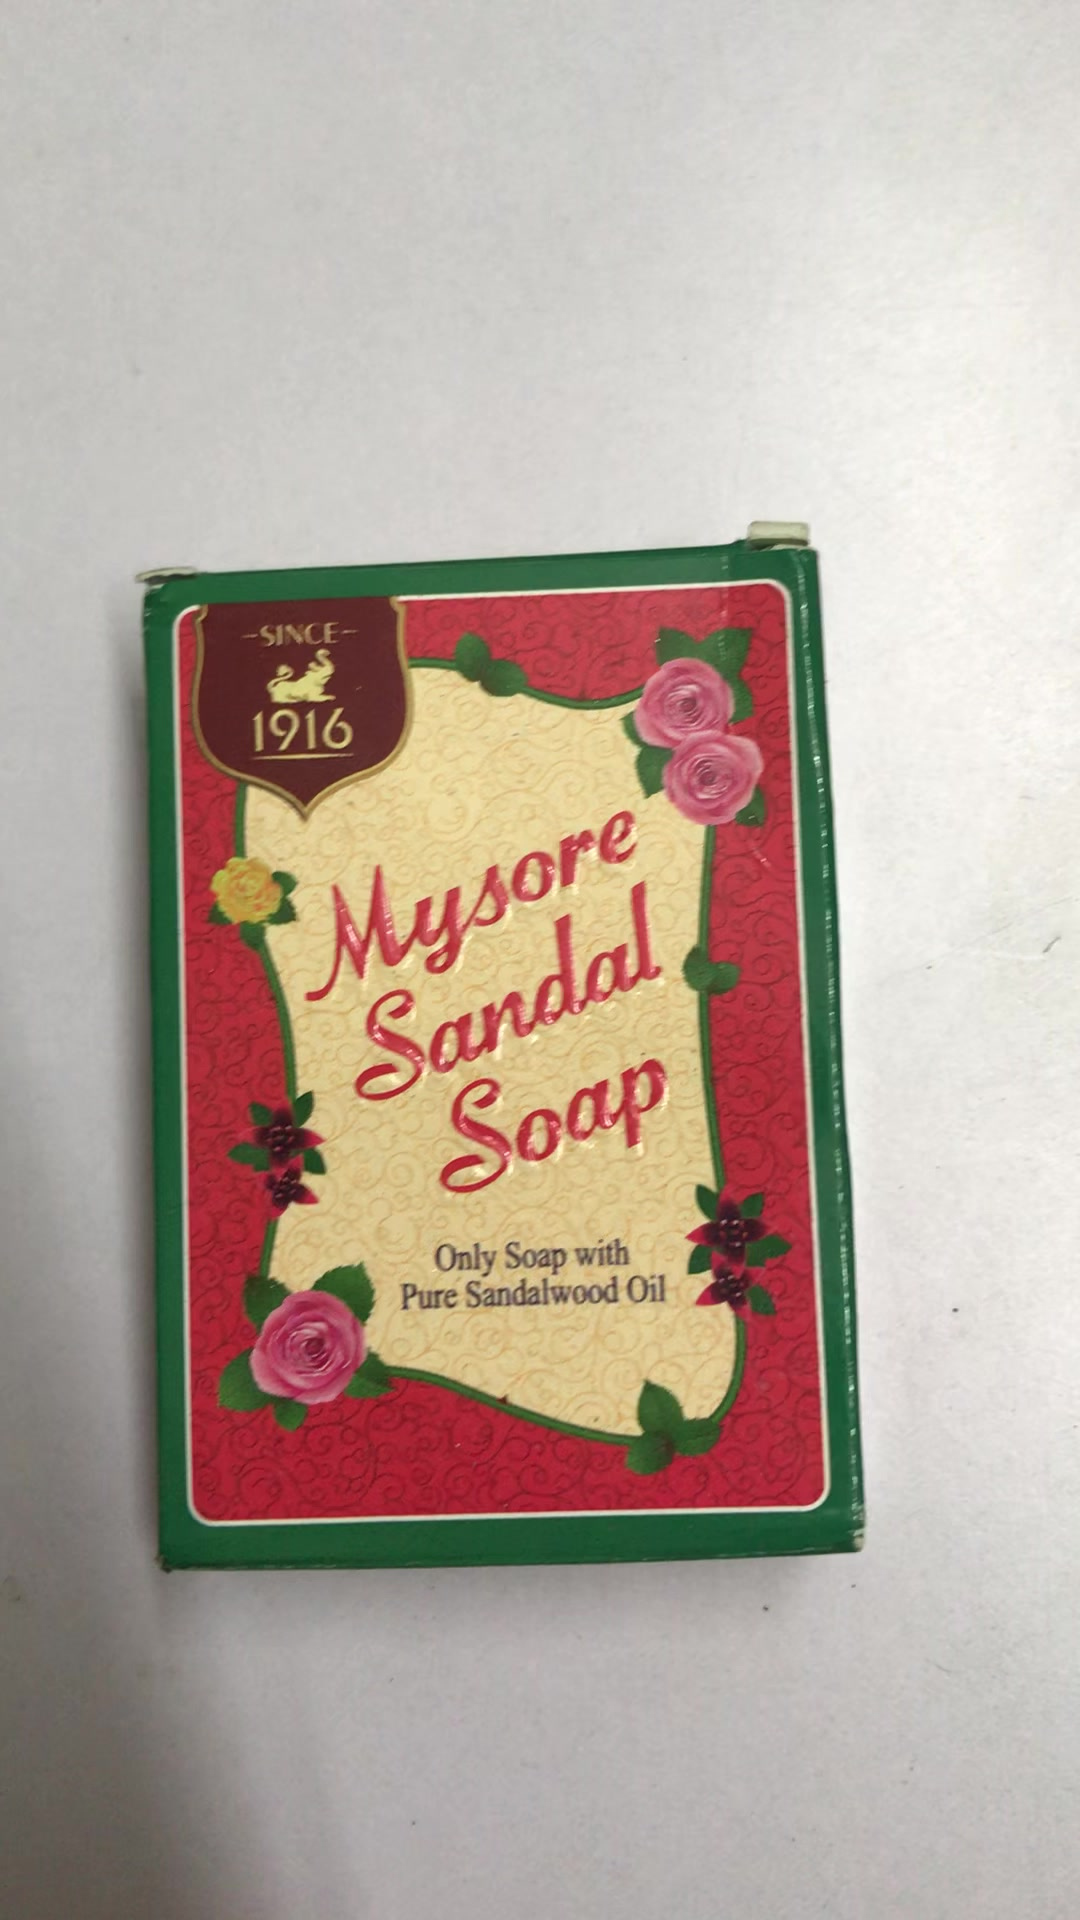mysore sandal soap: (142, 553, 870, 1571)
